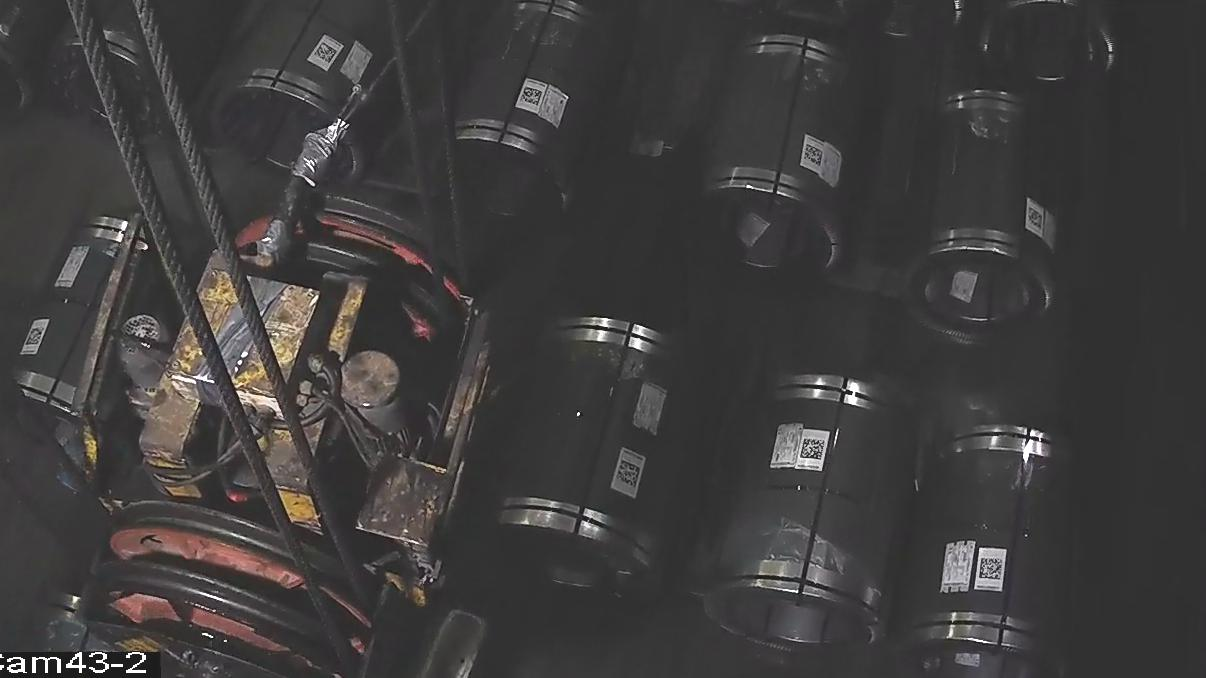data matrix: (615, 458, 644, 490), (978, 555, 1007, 584), (799, 437, 827, 463), (313, 41, 339, 66), (520, 85, 545, 109), (803, 142, 826, 168), (1027, 205, 1047, 233), (25, 326, 48, 347)
